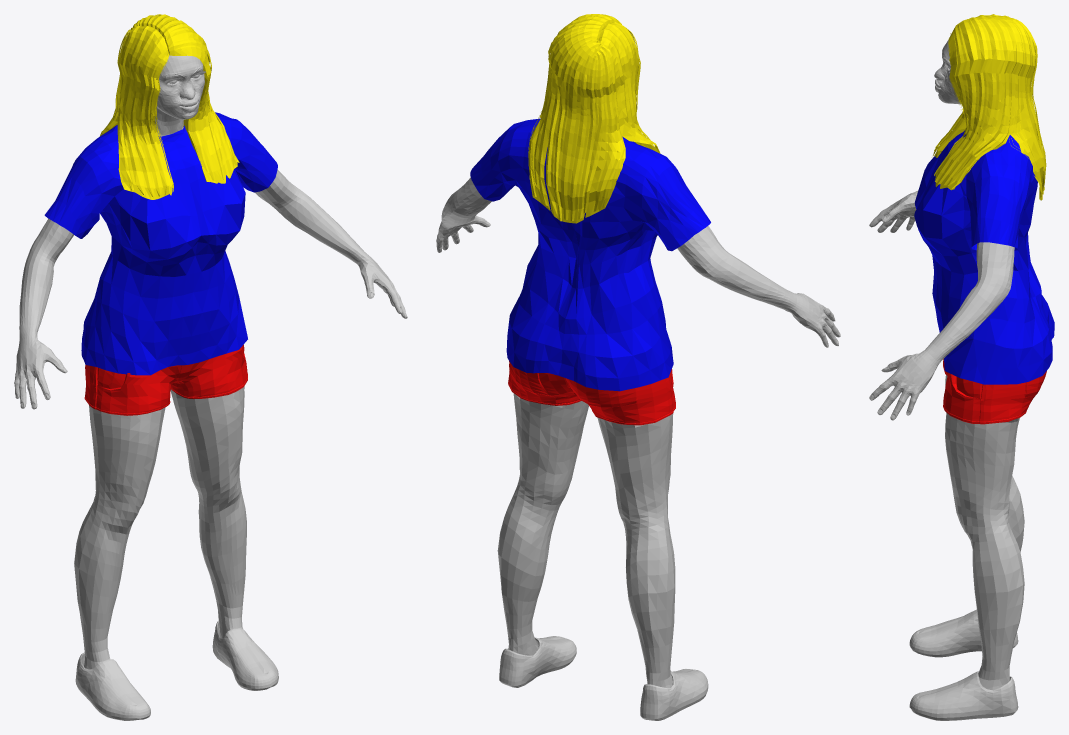
File: Tiana_31_TShirtShorts.obj
The picture shows the model from 3 angles, left to right: view 1: azimuth 30°, elevation 25°; view 2: azimuth 150°, elevation 25°; view 3: azimuth 270°, elevation 25°; orthographic projection. The views are drawn at different scales.
Visible parts, largest first — view 1: Tiana_31_ShortsTShirtShoes:Body, Tiana_31_ShortsTShirtShoes:tshirt02, Tiana_31_ShortsTShirtShoes:fhair01, Tiana_31_ShortsTShirtShoes:short01, Tiana_31_ShortsTShirtShoes:shoes02; view 2: Tiana_31_ShortsTShirtShoes:tshirt02, Tiana_31_ShortsTShirtShoes:Body, Tiana_31_ShortsTShirtShoes:fhair01, Tiana_31_ShortsTShirtShoes:short01, Tiana_31_ShortsTShirtShoes:shoes02; view 3: Tiana_31_ShortsTShirtShoes:Body, Tiana_31_ShortsTShirtShoes:tshirt02, Tiana_31_ShortsTShirtShoes:fhair01, Tiana_31_ShortsTShirtShoes:shoes02, Tiana_31_ShortsTShirtShoes:short01.
Boxes of the visible parts, box(x1,y1,x2,y2) form: Tiana_31_ShortsTShirtShoes:Body: box(14, 55, 407, 669); Tiana_31_ShortsTShirtShoes:tshirt02: box(44, 112, 277, 375); Tiana_31_ShortsTShirtShoes:fhair01: box(99, 14, 239, 199); Tiana_31_ShortsTShirtShoes:short01: box(84, 344, 247, 415); Tiana_31_ShortsTShirtShoes:shoes02: box(75, 620, 278, 720); Tiana_31_ShortsTShirtShoes:tshirt02: box(470, 118, 710, 391); Tiana_31_ShortsTShirtShoes:Body: box(436, 177, 840, 687); Tiana_31_ShortsTShirtShoes:fhair01: box(528, 14, 660, 223); Tiana_31_ShortsTShirtShoes:short01: box(508, 361, 675, 425); Tiana_31_ShortsTShirtShoes:shoes02: box(499, 636, 708, 720); Tiana_31_ShortsTShirtShoes:Body: box(869, 40, 1024, 690); Tiana_31_ShortsTShirtShoes:tshirt02: box(914, 130, 1054, 384); Tiana_31_ShortsTShirtShoes:fhair01: box(933, 14, 1046, 200); Tiana_31_ShortsTShirtShoes:shoes02: box(909, 609, 1018, 720); Tiana_31_ShortsTShirtShoes:short01: box(943, 359, 1046, 424).
Bounding box in the file's own units: 10.21 × 16.76 × 4.24.
